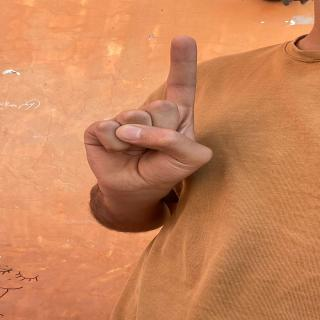BAA: (82, 32, 240, 219)
